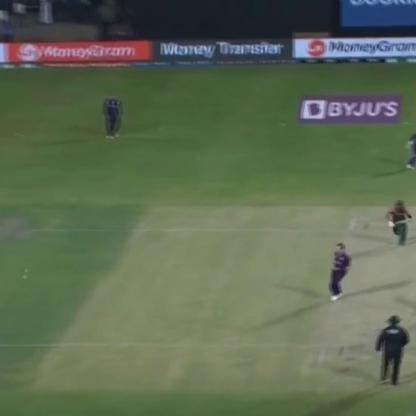ball: (20, 272, 28, 282), (20, 268, 31, 274)
pitch: (320, 194, 416, 394)
